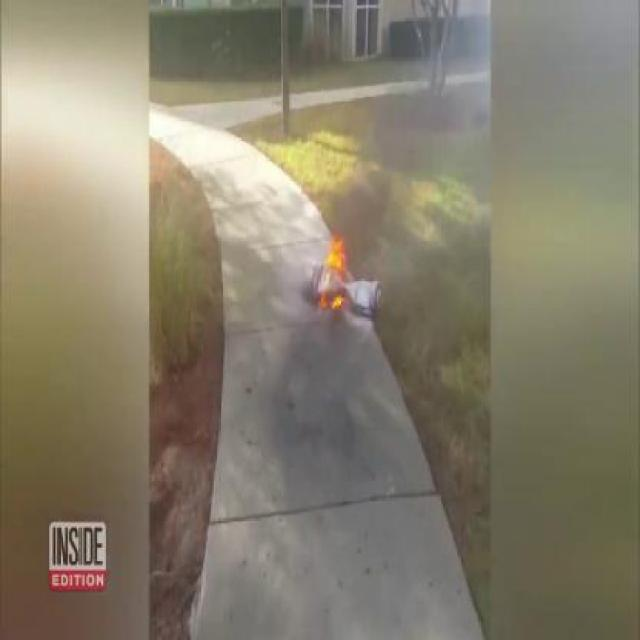fire: (312, 221, 358, 325)
